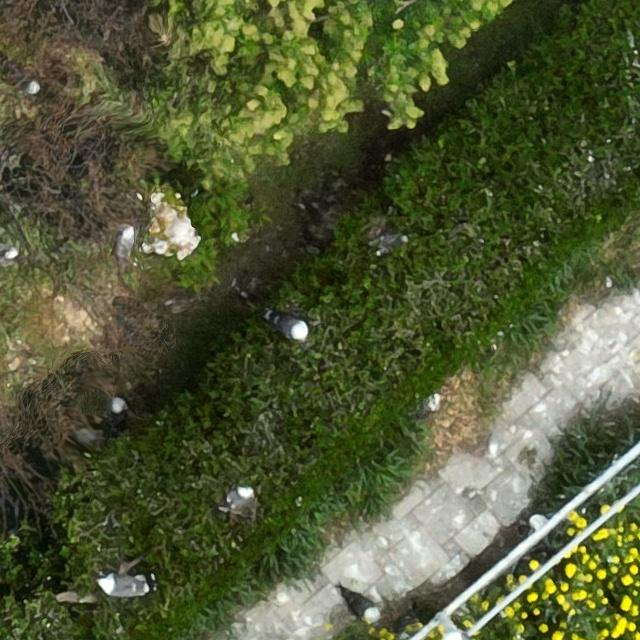umineko: (99, 576, 142, 597), (89, 397, 132, 417), (348, 597, 380, 623), (274, 315, 308, 337), (224, 488, 252, 510), (118, 227, 134, 254), (20, 80, 39, 96)
